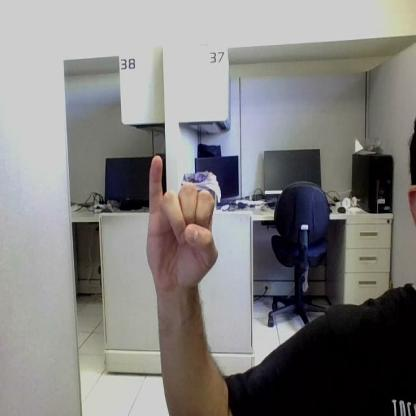I: (148, 156, 218, 284)
